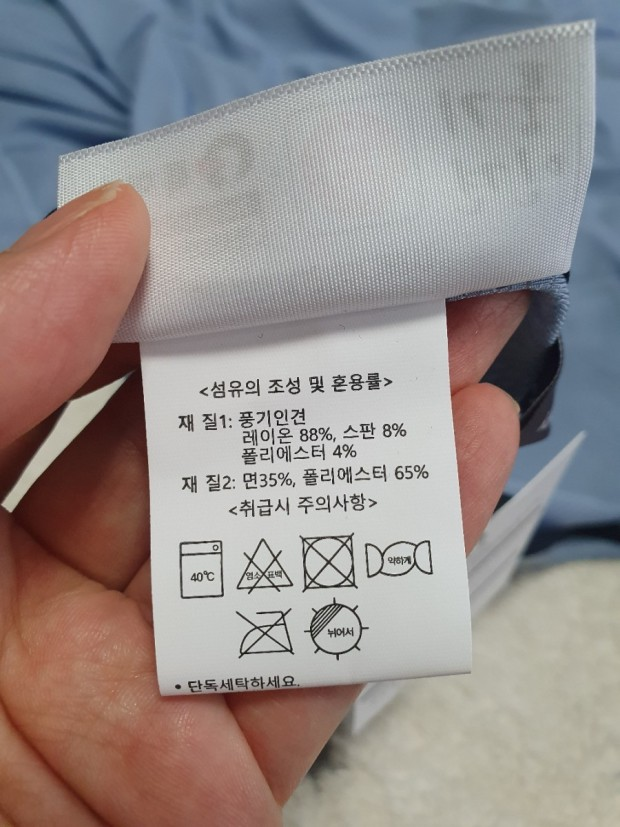KR_flat_dry_in_shade: (306, 599, 367, 659)
KR_gentle_wring: (362, 535, 435, 585)
KR_no_chlorine_bleach: (232, 535, 296, 594)
KR_no_iron: (233, 604, 299, 660)
KR_no_tumble_dry: (296, 532, 360, 593)
KR_wash_40: (176, 535, 227, 604)
